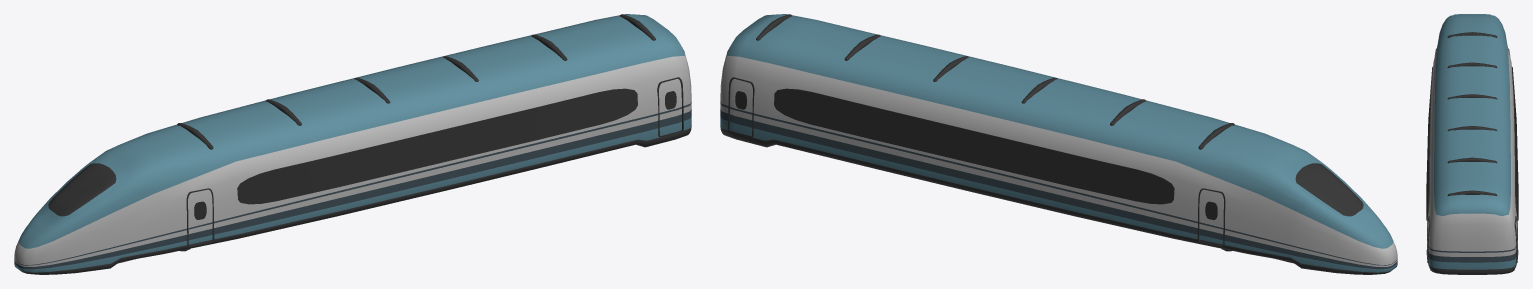
The model's file is HighSpeed_Front.glb.
The picture shows the model from 3 angles, left to right: view 1: azimuth 30°, elevation 25°; view 2: azimuth 150°, elevation 25°; view 3: azimuth 270°, elevation 25°; orthographic projection. The views are drawn at different scales.
Parts seen in each view (by area): view 1: HighspeedTrain_Front; view 2: HighspeedTrain_Front; view 3: HighspeedTrain_Front.
Part boxes in pixels (x1,y1,x2,y2): HighspeedTrain_Front: (14, 14, 691, 274); HighspeedTrain_Front: (720, 14, 1397, 274); HighspeedTrain_Front: (1426, 14, 1518, 274).
Bounding box in the file's own units: 12.16 × 1.9 × 2.03.
